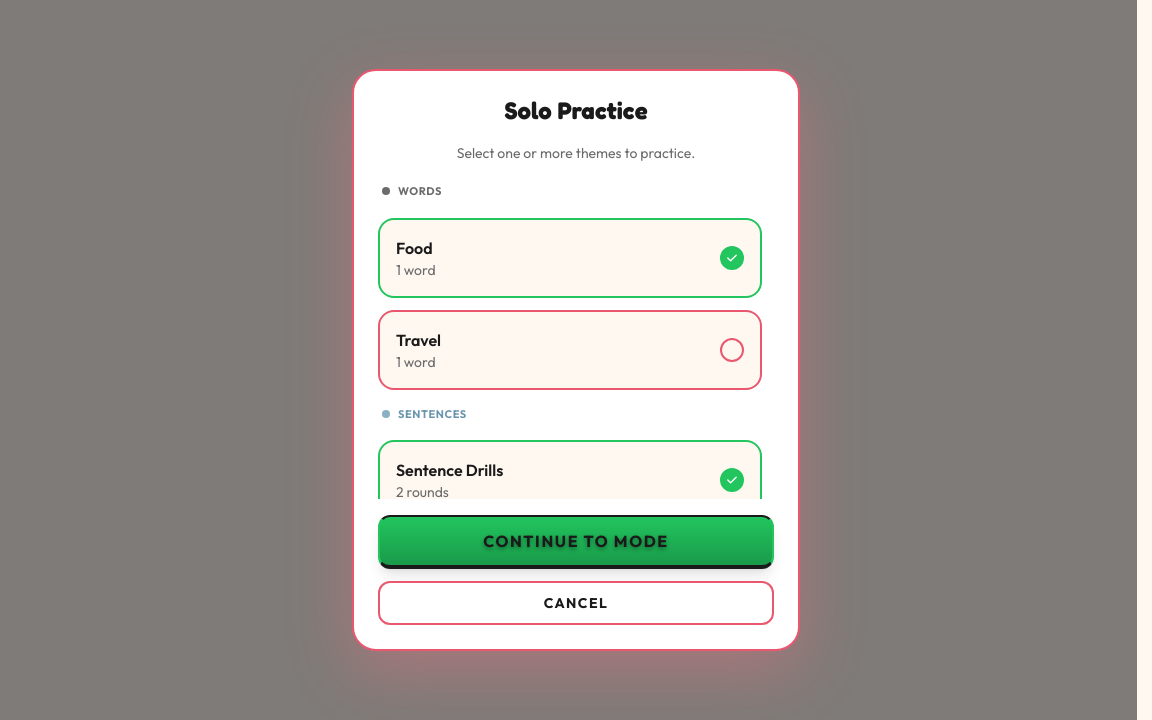
Scenario: SoloPracticeModal Solo Practice mode › summarizes selected mixed decks as items
The image size is (1152, 720).
Click the button with test id "theme-selector-confirm" at (576, 542), box [378, 515, 774, 569]
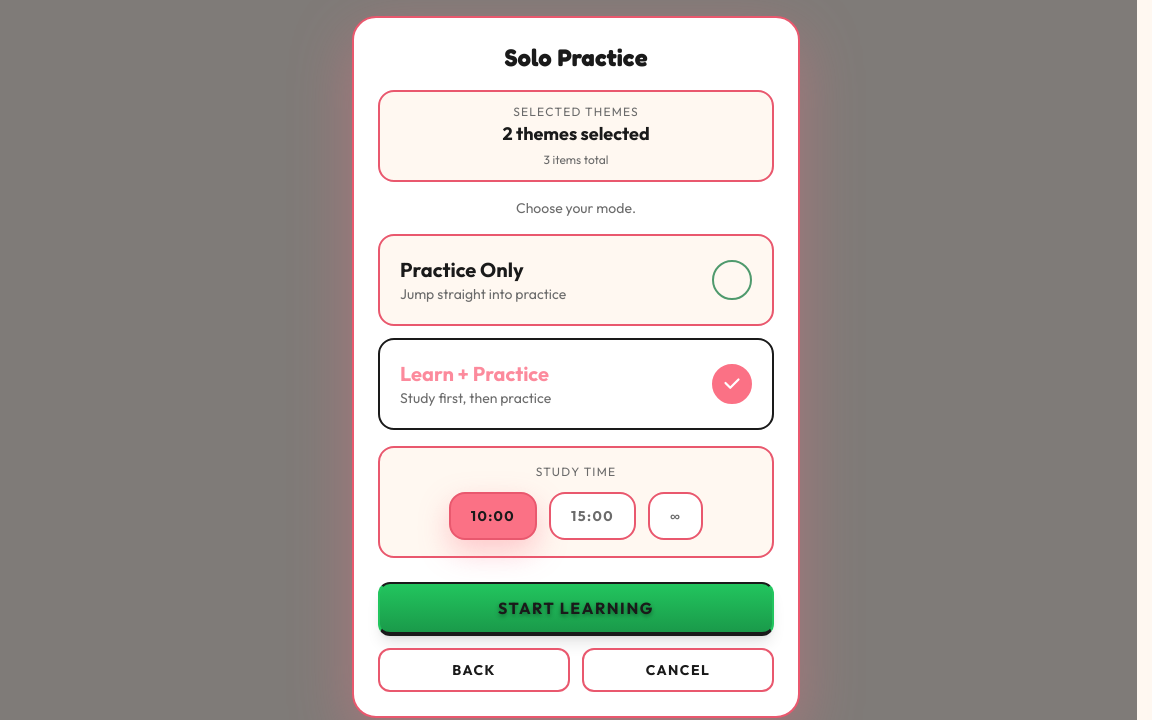
Now the text "3 items total" is shown, box [544, 152, 608, 167]
